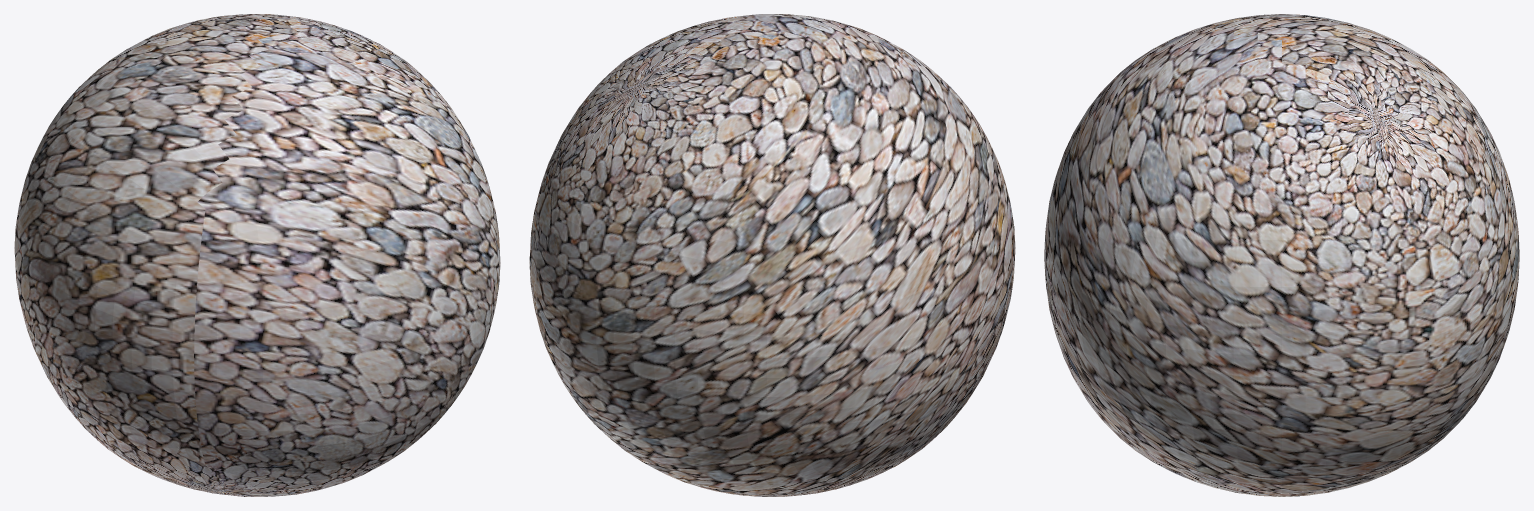
File: tsphere.obj
3 views of the same model, side by side, from view 1: azimuth 30°, elevation 25°; view 2: azimuth 150°, elevation 25°; view 3: azimuth 270°, elevation 25° (orthographic).
Parts seen in each view (by area): view 1: Cube_Cube.001; view 2: Cube_Cube.001; view 3: Cube_Cube.001.
Boxes of the visible parts, x1,y1,x2,y2 form: Cube_Cube.001: (14, 14, 500, 496); Cube_Cube.001: (529, 14, 1015, 496); Cube_Cube.001: (1044, 14, 1519, 496).
Bounding box in the file's own units: 1.68 × 1.68 × 1.68.
Materials: 1 (1 with a texture image).
